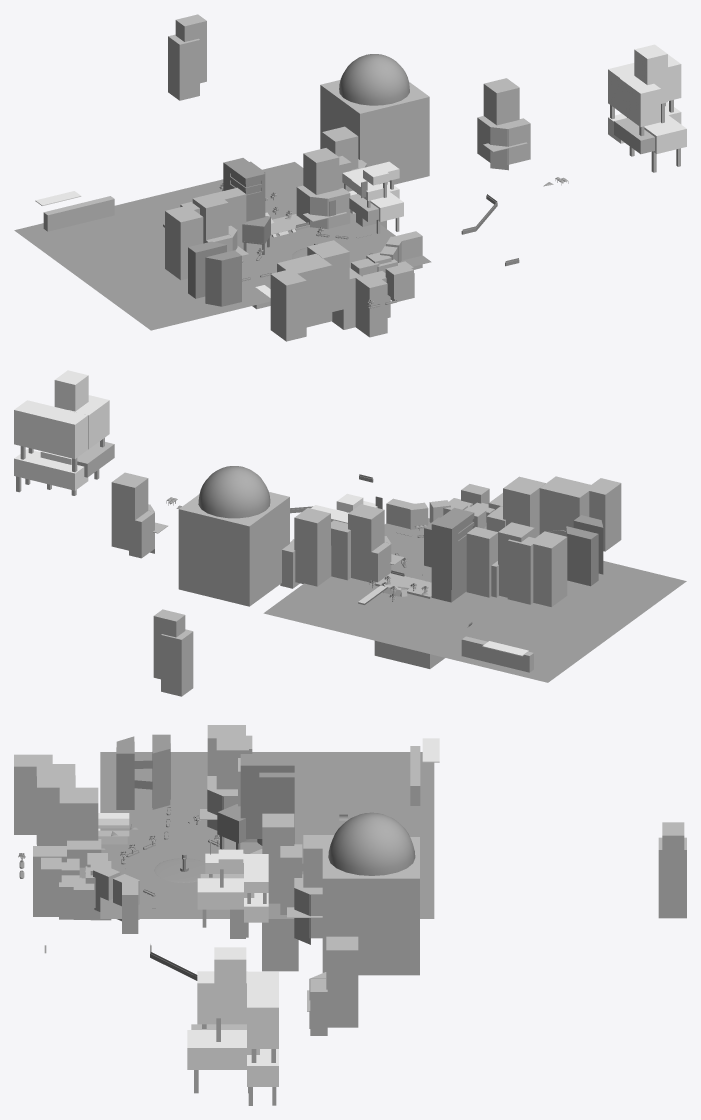
The model's file is City_Assets2.fbx.
3 views of the same model, one above another, from view 1: azimuth 30°, elevation 25°; view 2: azimuth 150°, elevation 25°; view 3: azimuth 270°, elevation 25° (orthographic). The views are drawn at different scales.
Visible parts, largest first — view 1: pPlane1, Cube_105_, Cube_13_2, Cube_16_, pCube44, pSphere2, City_Greybox_3:Cube_105_, pCube43, Cube_13_32, Cube_128_3, Cube_13_, Cube_13_15 (+16 smaller); view 2: pPlane1, Cube_13_2, Cube_105_, pCube43, Cube_16_2, pSphere2, Cube_16_, Cube_128_3, pCube44, City_Greybox_3:Cube_13_, Cube_13_, Cube_128_1 (+13 smaller); view 3: pPlane1, Cube_105_, Cube_13_2, pCube43, City_Greybox_3:Cube_105_, pSphere2, pCube44, City_Greybox_3:Cube_13_, Cube_16_2, Cube_16_1, Cube_13_30, Cube_13_32 (+19 smaller).
Boxes of the visible parts, left/top/right/bottom form: pPlane1: left=14, top=162, right=431, bottom=330; Cube_105_: left=608, top=44, right=686, bottom=172; Cube_13_2: left=320, top=80, right=429, bottom=184; Cube_16_: left=296, top=148, right=350, bottom=229; pCube44: left=188, top=241, right=241, bottom=306; pSphere2: left=339, top=54, right=409, bottom=105; City_Greybox_3:Cube_105_: left=342, top=161, right=403, bottom=233; pCube43: left=223, top=158, right=270, bottom=254; Cube_13_32: left=270, top=269, right=306, bottom=341; Cube_128_3: left=165, top=205, right=203, bottom=280; Cube_13_: left=168, top=34, right=199, bottom=100; Cube_13_15: left=355, top=273, right=387, bottom=337; pPlane1: left=263, top=518, right=686, bottom=682; Cube_13_2: left=178, top=492, right=289, bottom=606; Cube_105_: left=14, top=370, right=114, bottom=495; pCube43: left=424, top=507, right=474, bottom=602; Cube_16_2: left=280, top=508, right=331, bottom=588; pSphere2: left=198, top=466, right=270, bottom=518; Cube_16_: left=348, top=504, right=404, bottom=582; Cube_128_3: left=529, top=531, right=567, bottom=606; pCube44: left=566, top=515, right=603, bottom=586; City_Greybox_3:Cube_13_: left=111, top=472, right=148, bottom=551; Cube_13_: left=161, top=629, right=193, bottom=696; Cube_128_1: left=466, top=527, right=497, bottom=597; pPlane1: left=79, top=752, right=434, bottom=918; Cube_105_: left=187, top=947, right=278, bottom=1105; Cube_13_2: left=322, top=837, right=419, bottom=975; pCube43: left=217, top=754, right=294, bottom=849; City_Greybox_3:Cube_105_: left=197, top=849, right=268, bottom=937; pSphere2: left=328, top=812, right=415, bottom=875; pCube44: left=116, top=734, right=170, bottom=809; City_Greybox_3:Cube_13_: left=326, top=936, right=358, bottom=1027; Cube_16_2: left=287, top=835, right=334, bottom=944; Cube_16_1: left=200, top=736, right=248, bottom=830; Cube_13_30: left=59, top=787, right=98, bottom=845; Cube_13_32: left=14, top=754, right=52, bottom=834.
Bounding box in the file's own units: 3331 × 969 × 2696.
